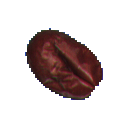ng: (18, 24, 114, 108)
